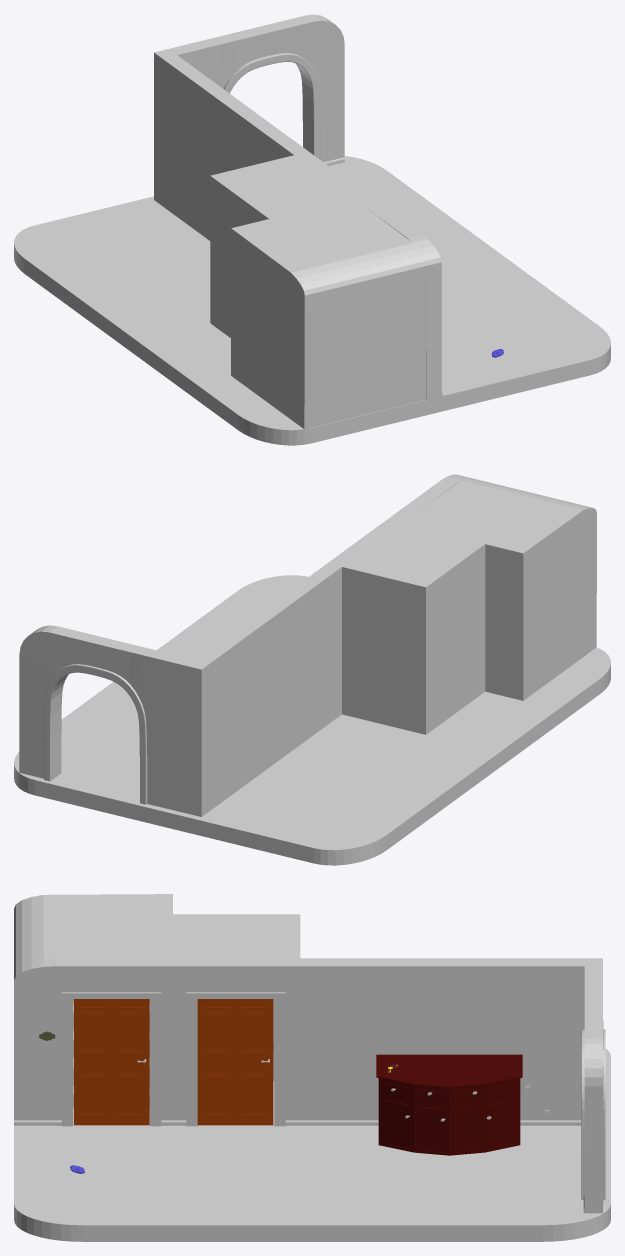
File: Corridoio.fbx
The picture shows the model from 3 angles, top to bottom: view 1: azimuth 30°, elevation 25°; view 2: azimuth 150°, elevation 25°; view 3: azimuth 270°, elevation 25°; orthographic projection. The views are drawn at different scales.
Parts seen in each view (by area): view 1: Pavimento, Soffitta_scale, Muro, Sgabuzzino, Arco; view 2: Pavimento, Muro, Sgabuzzino, Soffitta_scale, Arco; view 3: Pavimento, Muro, Mobile, Soffitta_scale, Porta_sgabuzzino, Porta_soffitta, Sgabuzzino, Muro.002, Muro.001, Battiscopa, Arco.
Boxes of the visible parts, x1,y1,x2,y2 form: Pavimento: (14,156,610,445); Soffitta_scale: (231,198,426,429); Muro: (154,14,441,399); Sgabuzzino: (210,155,352,337); Arco: (223,53,320,159); Pavimento: (14,575,610,865); Muro: (19,474,469,816); Sgabuzzino: (342,523,485,734); Soffitta_scale: (401,478,596,700); Arco: (44,664,147,804); Pavimento: (14,1048,610,1241); Muro: (14,958,603,1213); Mobile: (376,1054,522,1155); Soffitta_scale: (14,894,172,972); Porta_sgabuzzino: (197,999,273,1125); Porta_soffitta: (74,999,149,1125); Sgabuzzino: (173,914,300,1080); Muro.002: (186,992,285,1126); Muro.001: (62,992,161,1126); Battiscopa: (14,1120,584,1213); Arco: (581,1029,605,1199).
Bounding box in the file's own units: 642 × 276 × 850.
